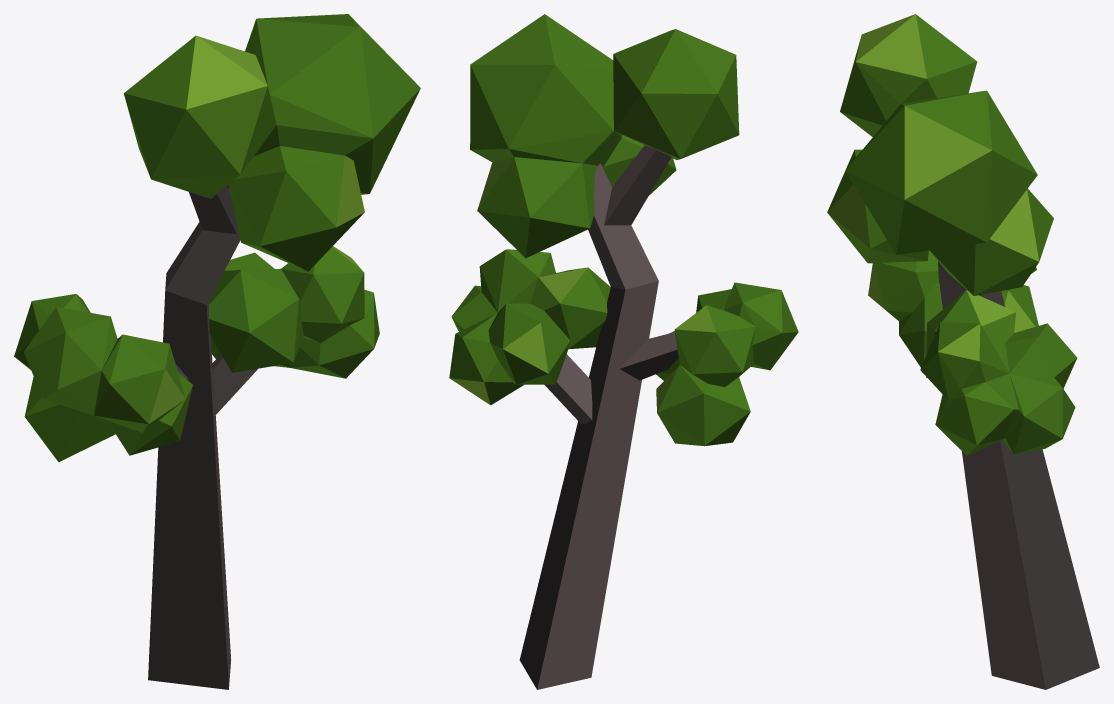
File: TB_D_Env_TreeC_C.FBX
3 views of the same model, side by side, from view 1: azimuth 30°, elevation 25°; view 2: azimuth 150°, elevation 25°; view 3: azimuth 270°, elevation 25° (orthographic). The views are drawn at different scales.
Visible parts, largest first — view 1: TB_D_Env_TreeC_C; view 2: TB_D_Env_TreeC_C; view 3: TB_D_Env_TreeC_C.
Part boxes in pixels (x1=…): TB_D_Env_TreeC_C: x1=14, y1=14, x2=420, y2=689; TB_D_Env_TreeC_C: x1=449, y1=14, x2=798, y2=689; TB_D_Env_TreeC_C: x1=827, y1=14, x2=1099, y2=689.
Size of the model in its own units: 2.64 by 4.85 by 1.91.
